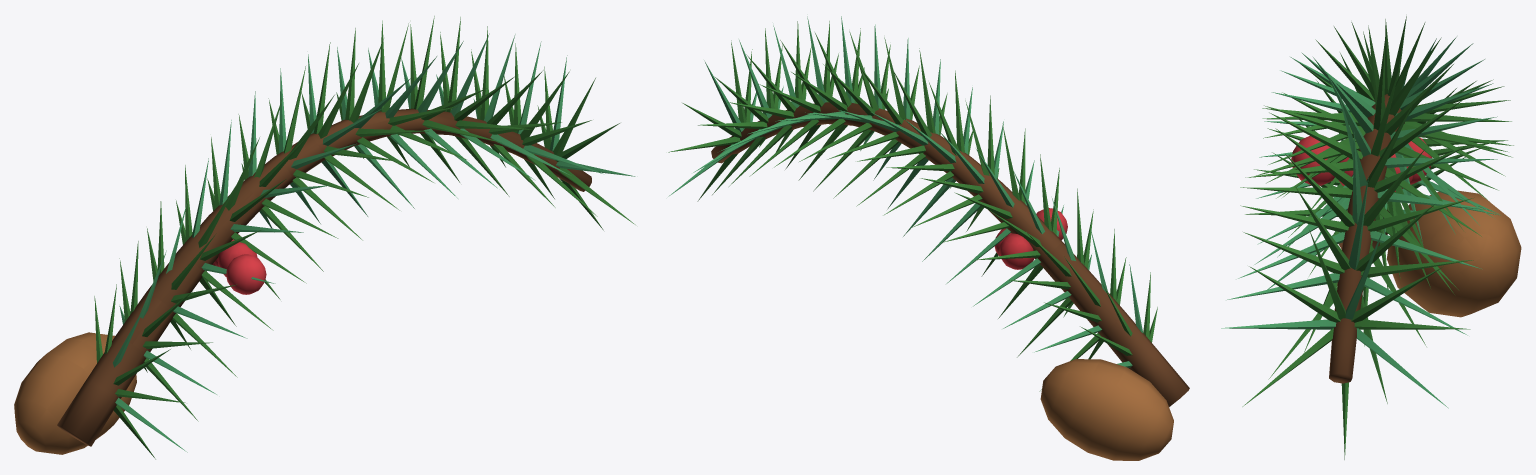
File: frost_pine_sprig.glb
3 renders of one model, left to right at view 1: azimuth 30°, elevation 25°; view 2: azimuth 150°, elevation 25°; view 3: azimuth 270°, elevation 25°, orthographic. The views are drawn at different scales.
Parts seen in each view (by area): view 1: frost_pine_sprig; view 2: frost_pine_sprig; view 3: frost_pine_sprig.
Boxes of the visible parts, x1,y1,x2,y2 form: frost_pine_sprig: (14,16,635,459); frost_pine_sprig: (668,16,1189,460); frost_pine_sprig: (1221,16,1521,459).
Size of the model in its own units: 9.3 by 6 by 3.5.
